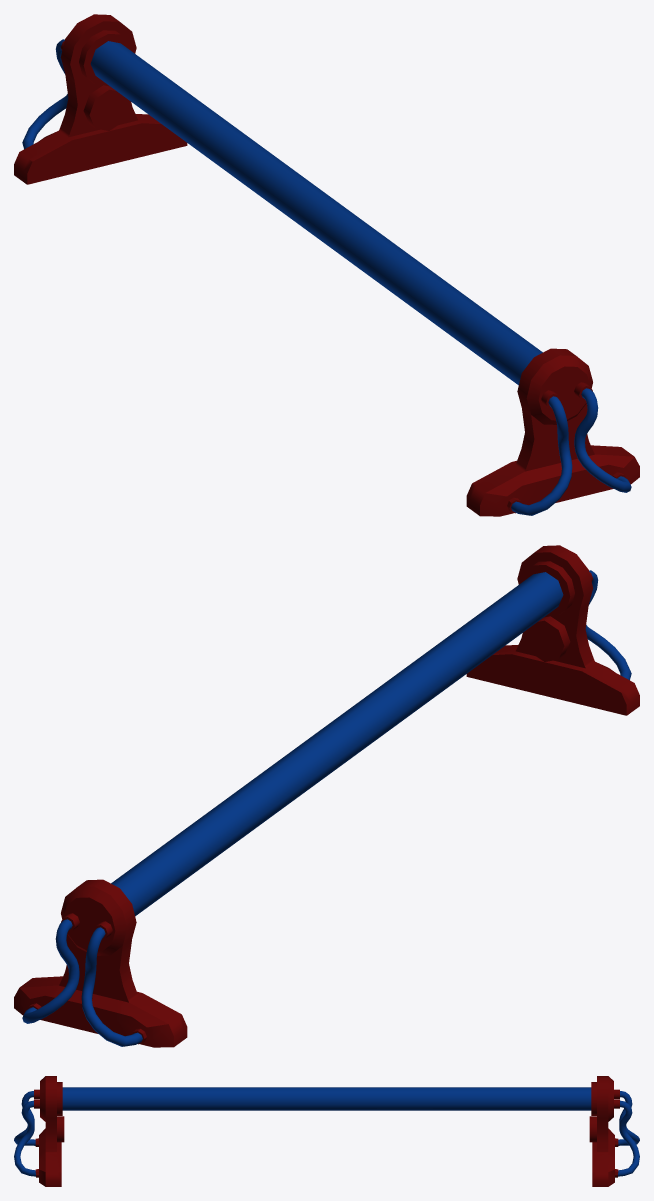
Rendered from SlideBar.fbx.
The picture shows the model from 3 angles, top to bottom: view 1: azimuth 30°, elevation 25°; view 2: azimuth 150°, elevation 25°; view 3: azimuth 270°, elevation 25°; orthographic projection. The views are drawn at different scales.
Visible parts, largest first — view 1: SlideBar; view 2: SlideBar; view 3: SlideBar.
Boxes of the visible parts, box(x1,y1,x2,y2) form: SlideBar: box(14, 14, 639, 516); SlideBar: box(14, 545, 639, 1047); SlideBar: box(14, 1076, 639, 1186).
Bounding box in the file's own units: 190 × 161 × 1068.
